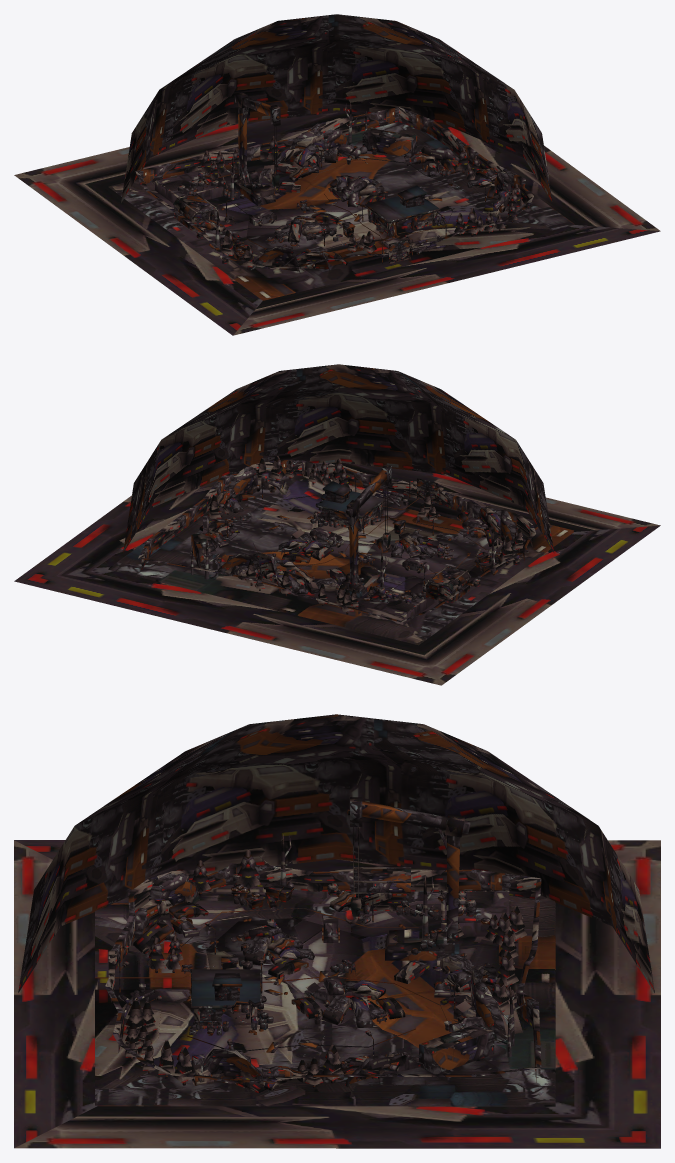
The model's file is Combined_Mesh_root_scene__8_c5249964__junkyard_diffuse_08_d_33748072_c1f257.obj.
3 views of the same model, one above another, from view 1: azimuth 30°, elevation 25°; view 2: azimuth 150°, elevation 25°; view 3: azimuth 270°, elevation 25° (orthographic). The views are drawn at different scales.
Size of the model in its own units: 109 by 41.29 by 96.33.
294 materials, 294 textured.
